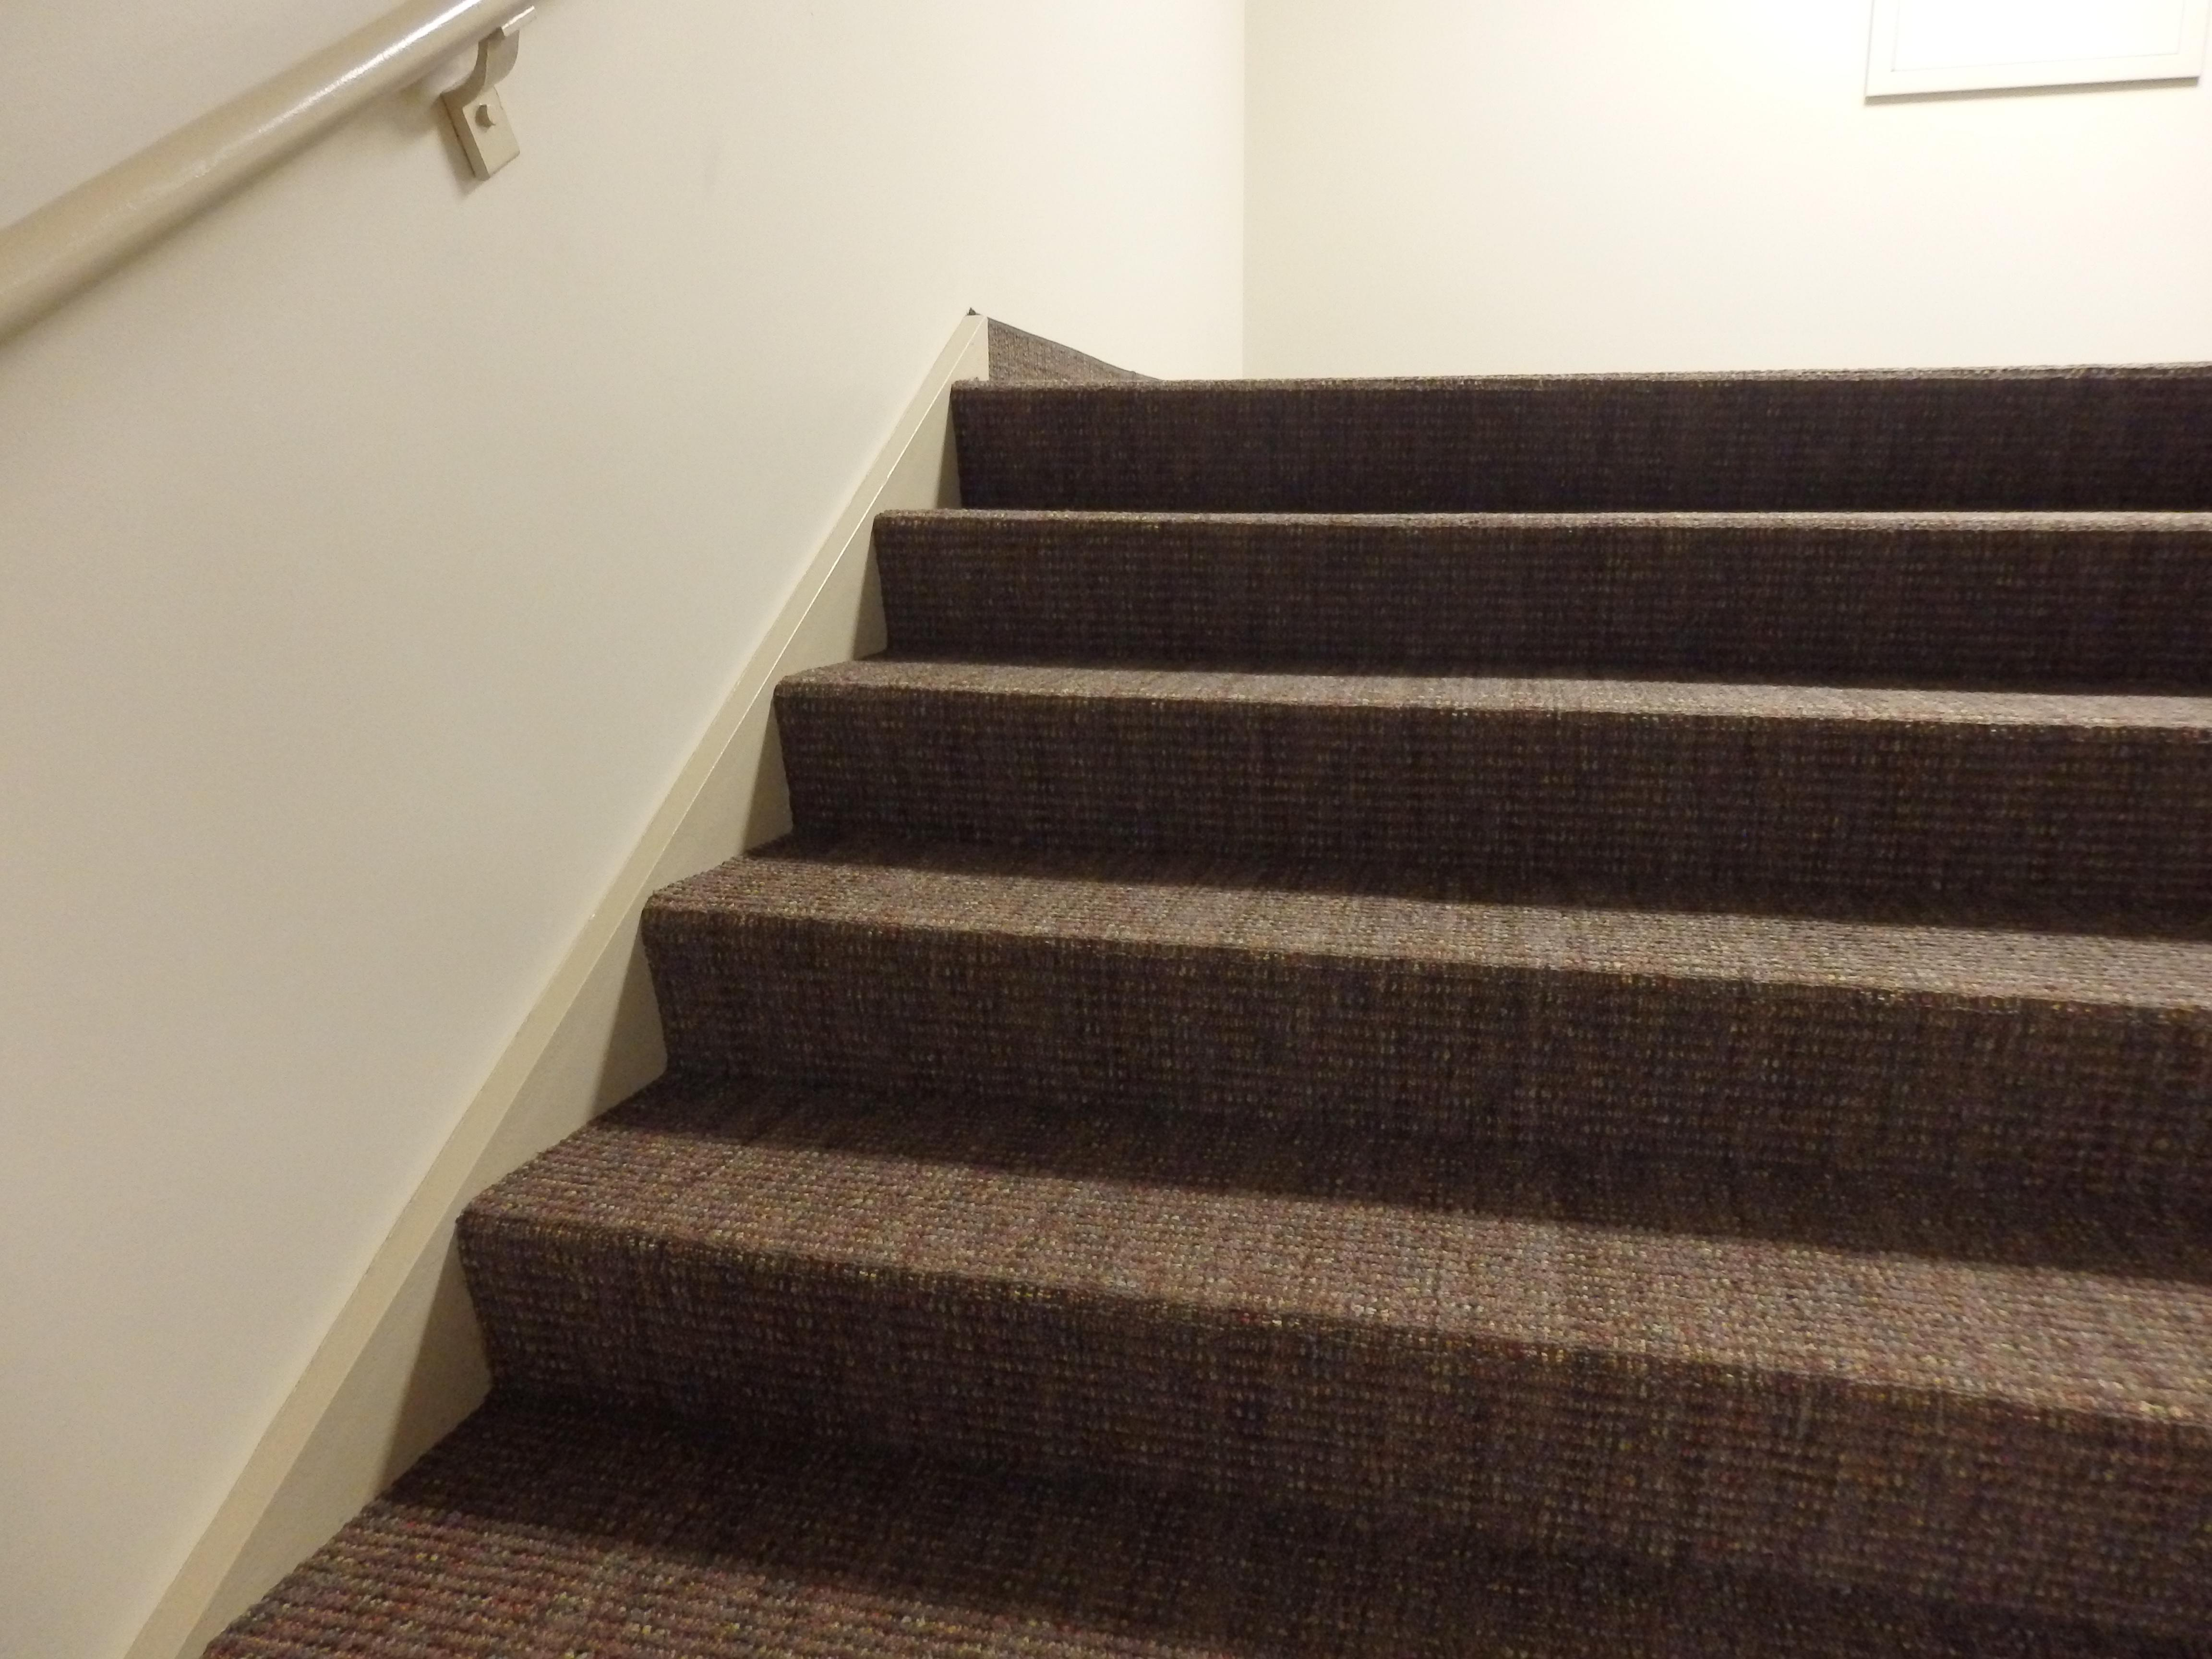stairs_up: (462, 326, 2181, 1659)
